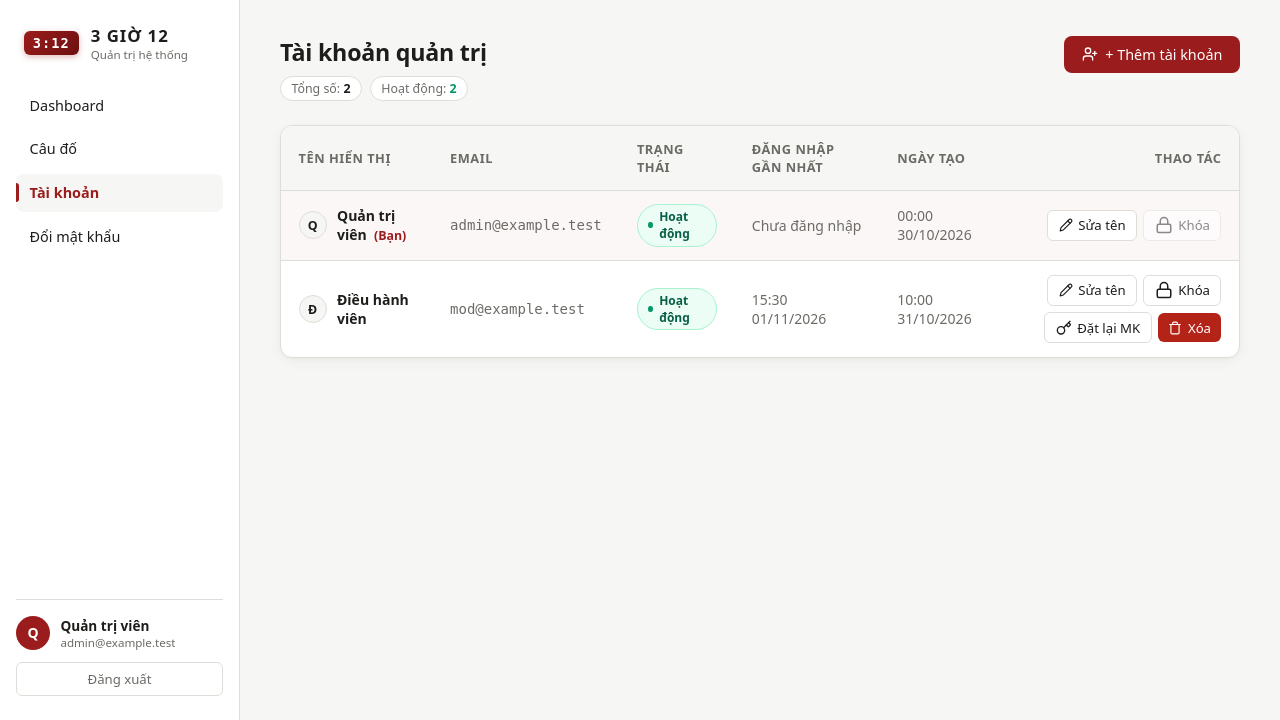
AccountsPage: resets password for another account
Expected: the heading "Tài khoản quản trị" is shown, [280, 36, 487, 68]
Click the button "Đặt lại MK".
click(1098, 328)  # box [1044, 312, 1152, 344]
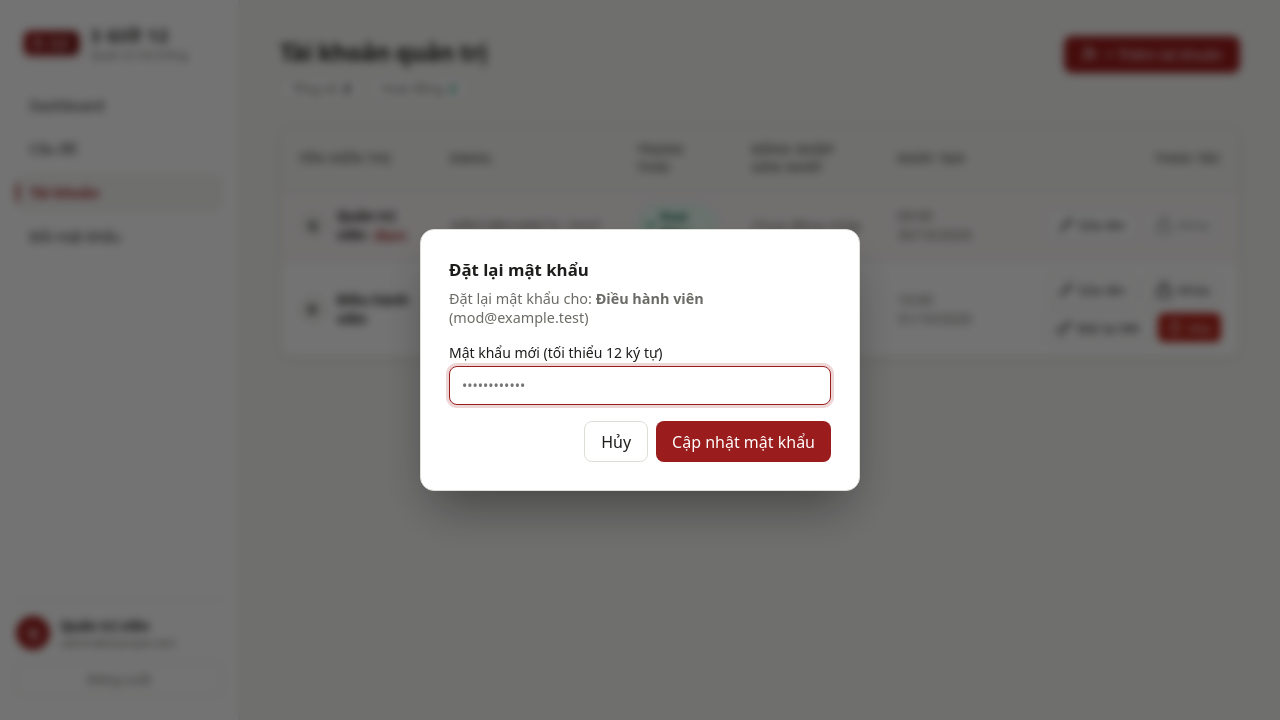
Expected: the heading "Đặt lại mật khẩu" is shown, [449, 258, 589, 280]
Type "matkhaumoi99999" into the password field labelled "Mật khẩu mới (tối thiểu 12 ký tự)".
click(640, 386); type("matkhaumoi99999")  # box [449, 366, 831, 405]
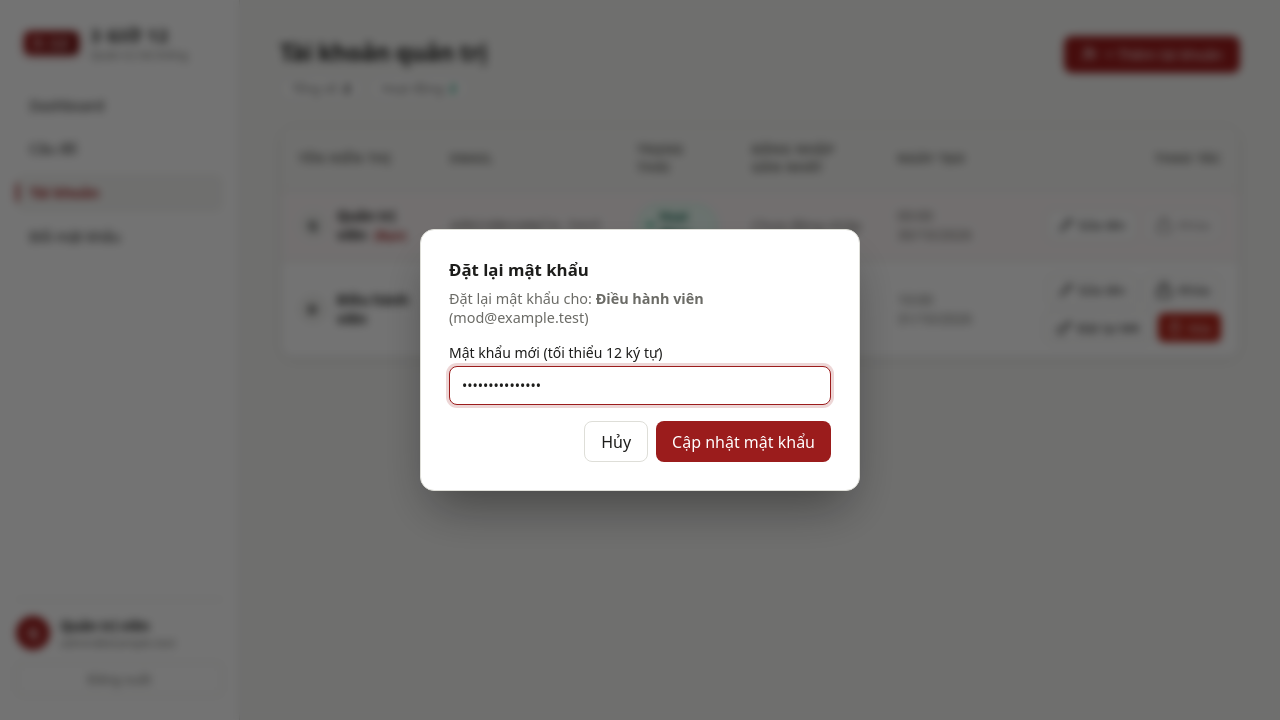
Click the button "Cập nhật mật khẩu".
click(744, 442)  # box [656, 421, 831, 462]
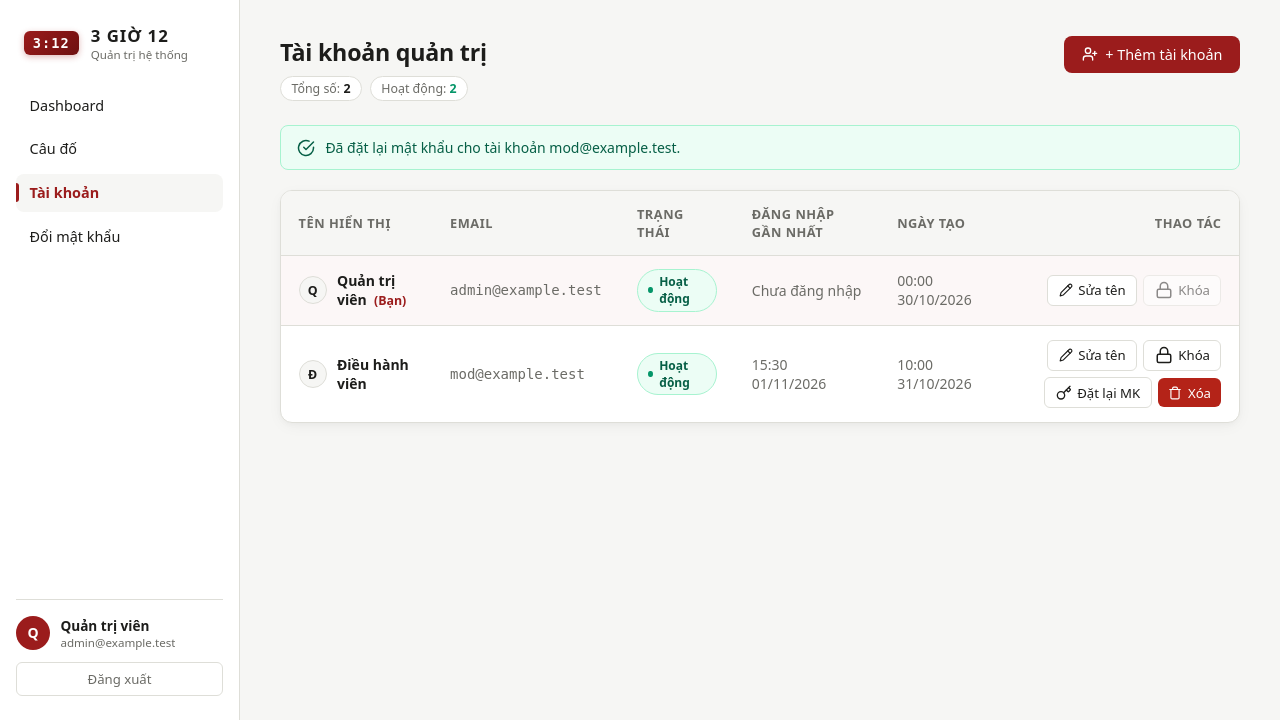
Expected: the message reads "Đã đặt lại mật khẩu cho tài khoản mod@example.test.", [325, 138, 680, 157]
